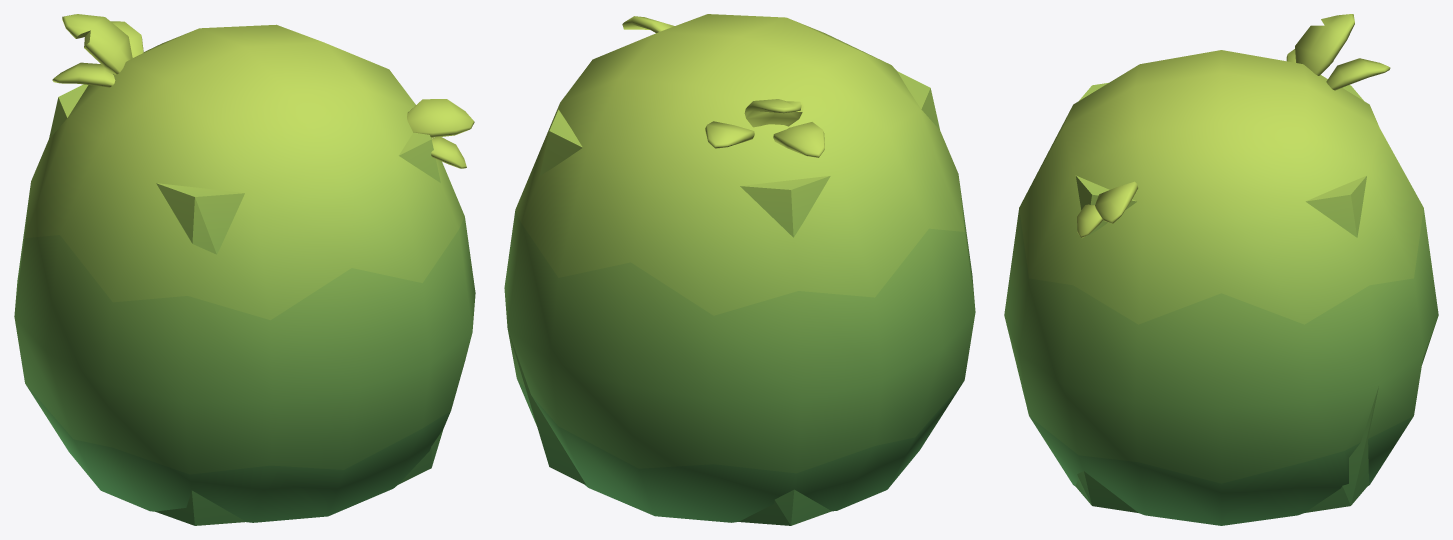
The model's file is bush 01.fbx.
3 views of the same model, side by side, from view 1: azimuth 30°, elevation 25°; view 2: azimuth 150°, elevation 25°; view 3: azimuth 270°, elevation 25° (orthographic). The views are drawn at different scales.
Visible parts, largest first — view 1: bush 01, bush 01 low; view 2: bush 01, bush 01 low; view 3: bush 01, bush 01 low.
Boxes of the visible parts, <box> form: bush 01: <box>14,14,475,522</box>; bush 01 low: <box>49,84,443,525</box>; bush 01: <box>504,14,975,522</box>; bush 01 low: <box>508,71,939,525</box>; bush 01: <box>1004,14,1438,525</box>; bush 01 low: <box>1075,82,1378,512</box>.
Bounding box in the file's own units: 168 × 173 × 168.
1 material, 1 textured.
